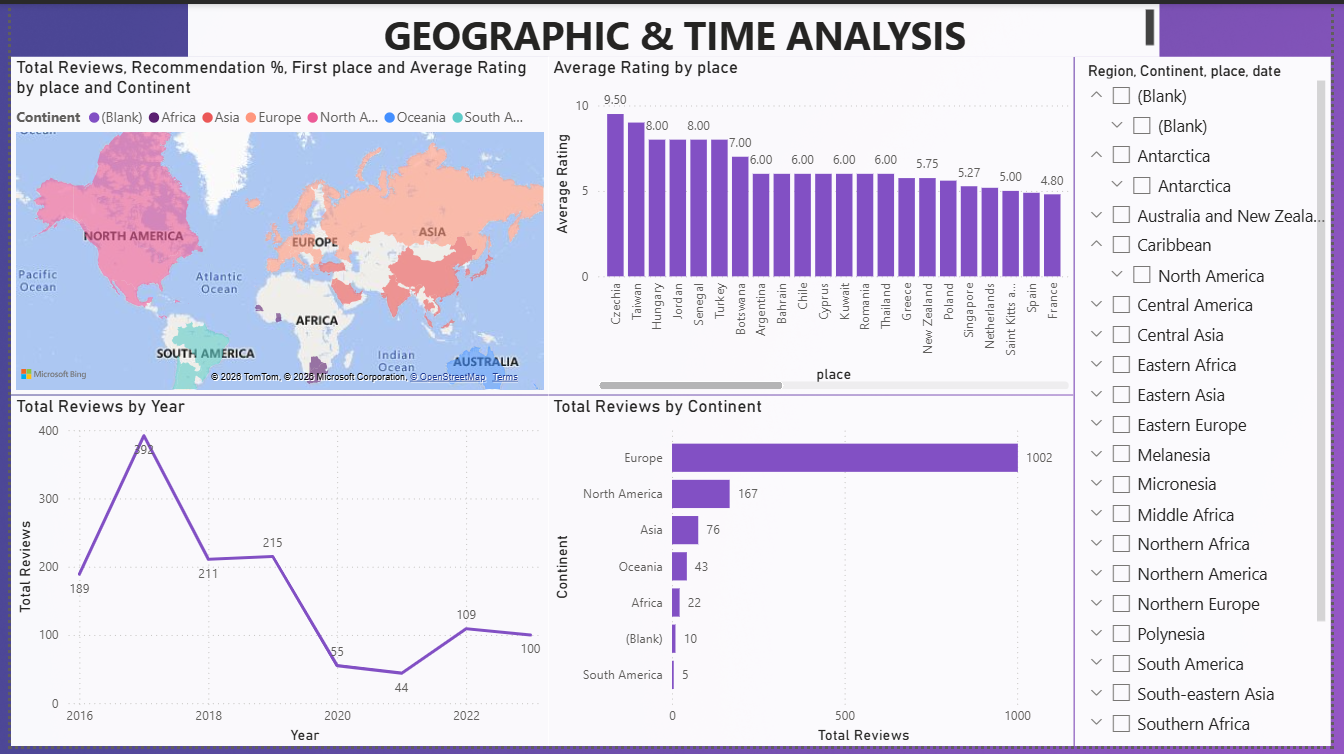

This screenshot's page, from the dashboard's own definition file:
{"tool":"powerbi","page":{"name":"Page 3","canvas":[1280,720],"ordinal":2},"visuals":[{"type":"filledMap","fields":{"Category":["ba_reviews.place"],"Series":["Countries.Continent"]},"box":[0,51.4,521.8,328],"z":0},{"type":"lineChart","fields":{"Category":["DateTable.Date.Variation.Date Hierarchy.Year","DateTable.Date.Variation.Date Hierarchy.Quarter","DateTable.Date.Variation.Date Hierarchy.Month","DateTable.Date.Variation.Date Hierarchy.Day"],"Y":["Countries.Total Reviews"]},"box":[0,379.3,521.8,341.2],"z":1},{"type":"clusteredColumnChart","fields":{"Category":["ba_reviews.place"],"Y":["Countries.Average Rating"]},"box":[521.8,51.4,510.2,328],"z":2},{"type":"barChart","fields":{"Category":["Countries.Continent"],"Y":["Countries.Total Reviews"]},"box":[521.8,379.3,510.2,341.2],"z":3},{"type":"slicer","fields":{"Values":["Countries.Region","Countries.Continent","ba_reviews.place","ba_reviews.date"]},"box":[1032,51.4,248.5,669.2],"z":4},{"type":"textbox","box":[172.3,0,942.5,51.4],"z":5}]}

Visuals, with their boxes in screenshot pixels (x1, y1, x2, y2), scaled from the page's 1280x720 canvas onto the 1344x754 screenshot:
filledMap - ba_reviews.place x Countries.Continent: <bbox>0, 54, 548, 397</bbox>
lineChart - DateTable.Date.Variation.Date Hierarchy.Year x DateTable.Date.Variation.Date Hierarchy.Quarter: <bbox>0, 397, 548, 753</bbox>
clusteredColumnChart - ba_reviews.place x Countries.Average Rating: <bbox>548, 54, 1084, 397</bbox>
barChart - Countries.Continent x Countries.Total Reviews: <bbox>548, 397, 1084, 753</bbox>
slicer - Countries.Region x Countries.Continent: <bbox>1084, 54, 1343, 753</bbox>
textbox: <bbox>181, 0, 1171, 54</bbox>
